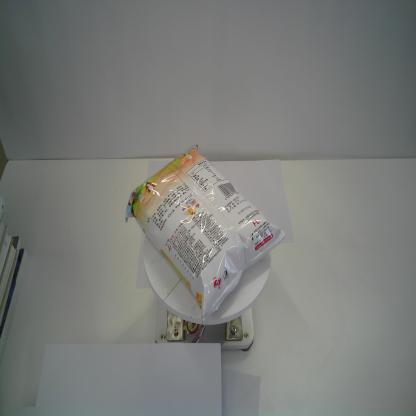Puffed Food: (124, 143, 286, 324)
